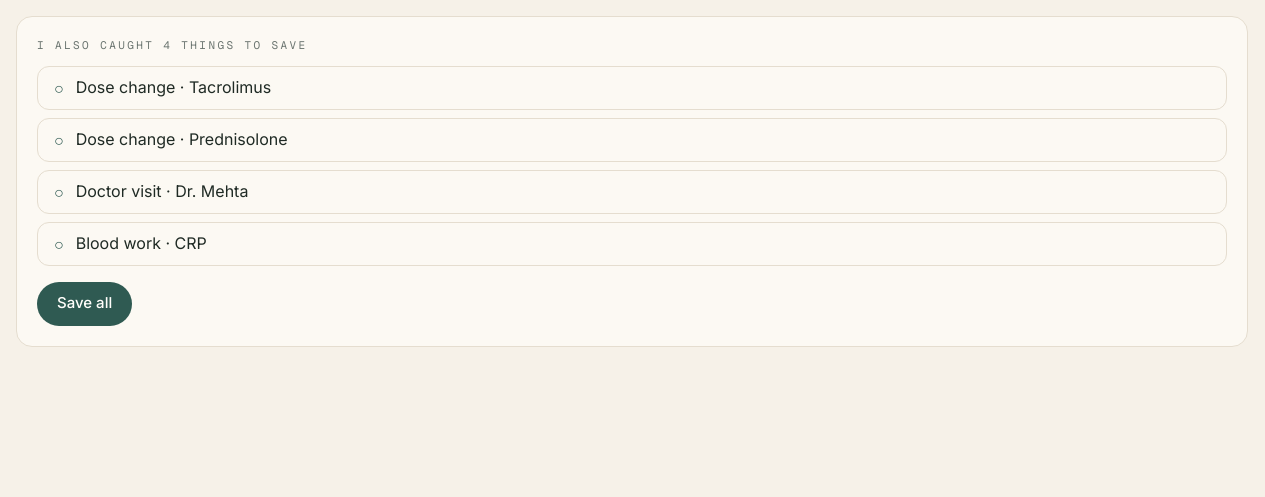
Test case: <ConfirmCardStack /> — N≥4 grouped presentation › saving an expanded card collapses it and flips its row status to ✓
Click the button with test id "confirm-card-group-row-v-1": click(162, 191) [37,170,1227,214]
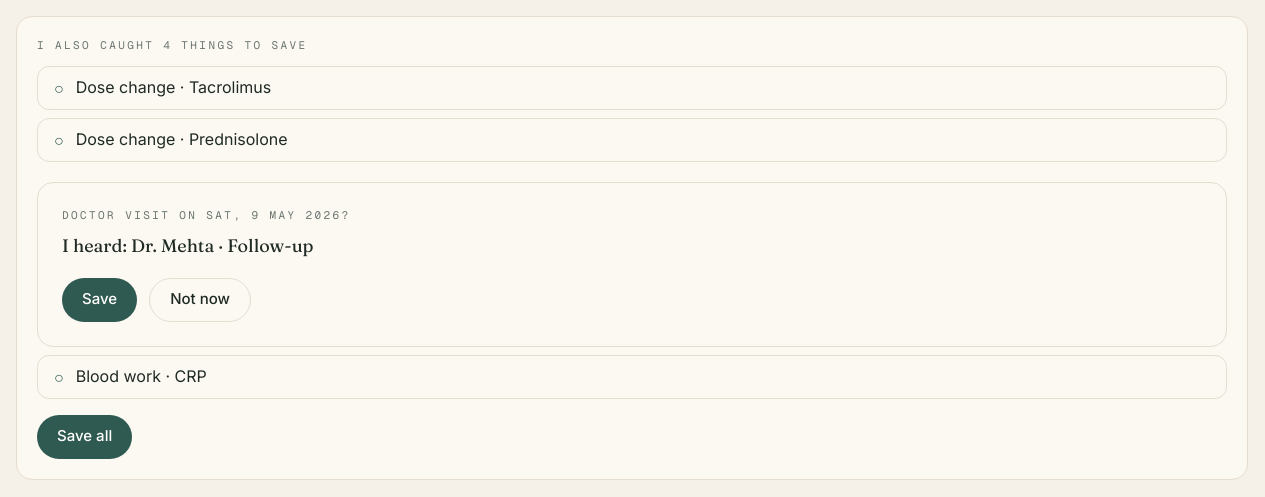
Click the button with test id "confirm-card-visit-confirm": click(100, 300) [62,278,137,322]
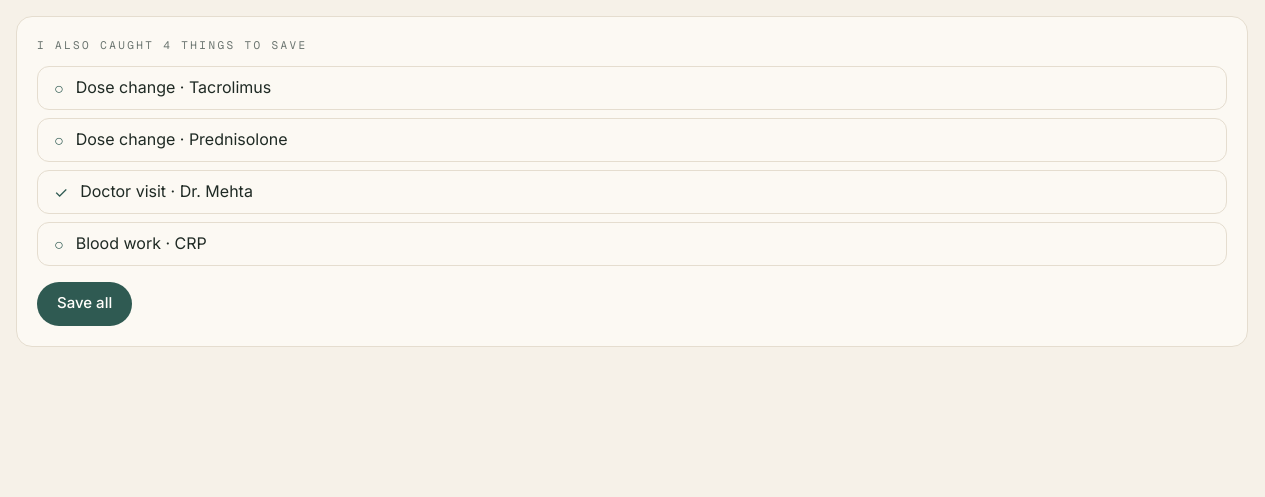
Expected: the text with test id "confirm-card-group-row-v-1-status" reads "✓", [54,182,68,202]
Expected: the element with test id "confirm-card-visit" is gone
